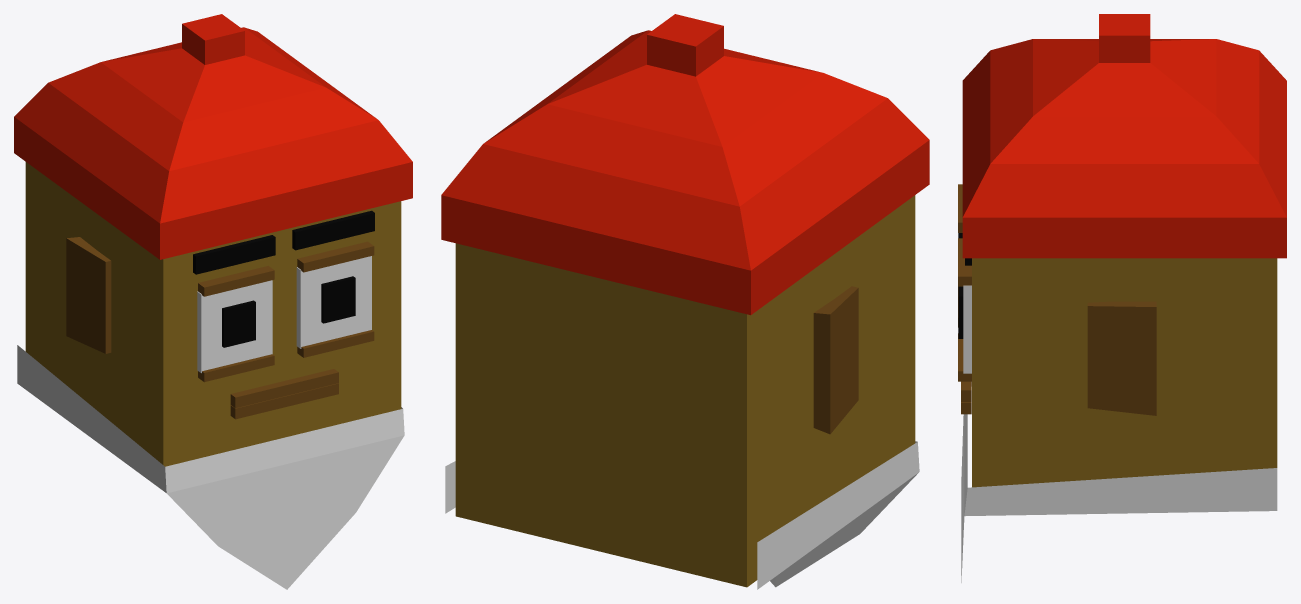
3 views of the same model, side by side, from view 1: azimuth 30°, elevation 25°; view 2: azimuth 150°, elevation 25°; view 3: azimuth 270°, elevation 25° (orthographic). The views are drawn at different scales.
Parts seen in each view (by area): view 1: Cube.013; view 2: Cube.013; view 3: Cube.013.
Boxes of the visible parts, x1,y1,x2,y2 form: Cube.013: (14, 14, 412, 589); Cube.013: (441, 14, 929, 589); Cube.013: (958, 14, 1286, 582).
Size of the model in its own units: 0.4576 by 0.8363 by 0.4411.
